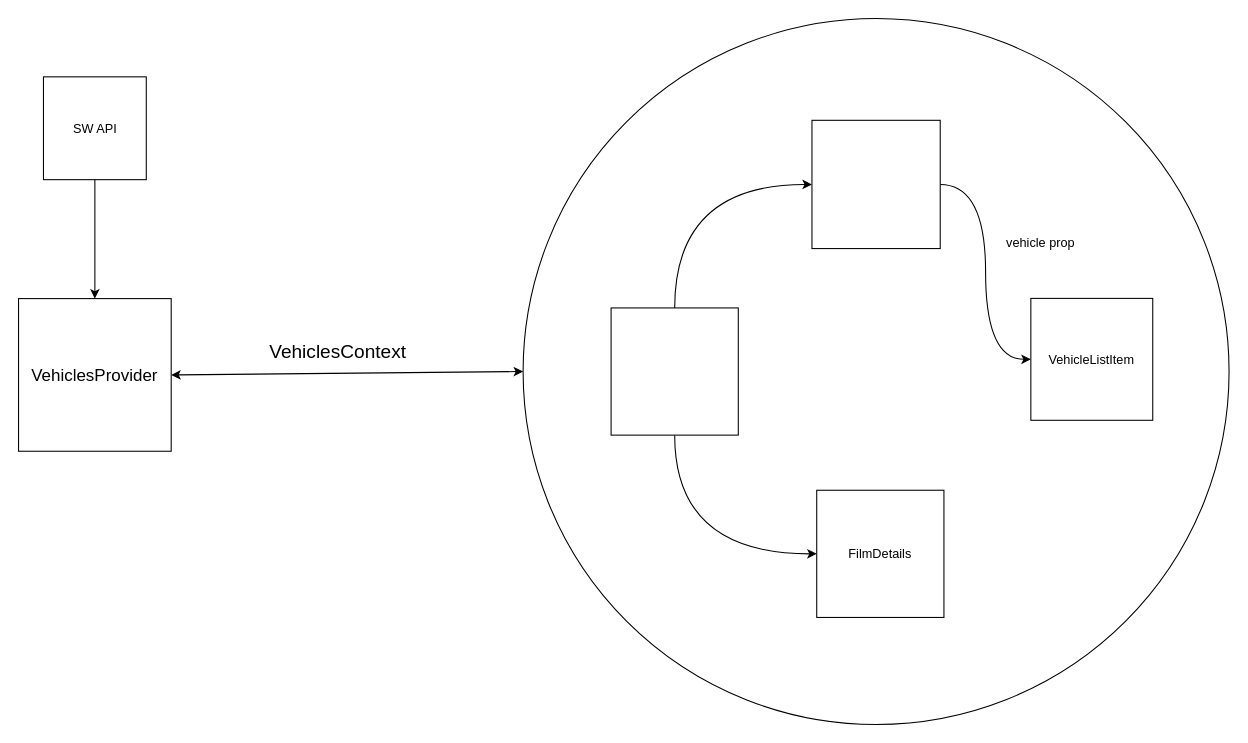
Some shapes in this 1248 by 743 pixel diagram are drawn without their labels. Each missing label, with the centre of its shape:
App: pixel 674 371
VehicleList: pixel 875 184
